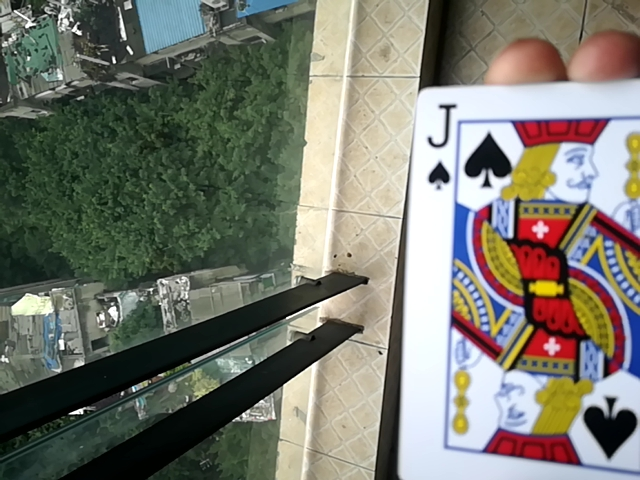ht j: (394, 87, 637, 480)
